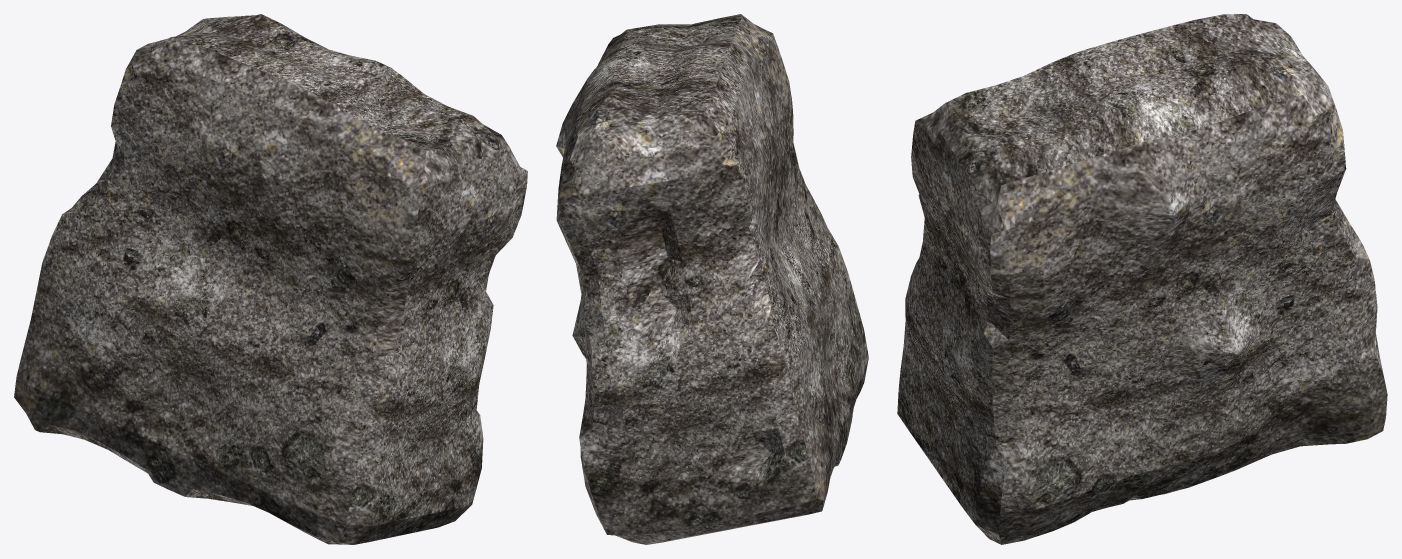
File: 03_安山岩.glb
The picture shows the model from 3 angles, left to right: view 1: azimuth 30°, elevation 25°; view 2: azimuth 150°, elevation 25°; view 3: azimuth 270°, elevation 25°; orthographic projection. The views are drawn at different scales.
Parts seen in each view (by area): view 1: 立方體.001; view 2: 立方體.001; view 3: 立方體.001.
Boxes of the visible parts, bbox=[...] form: 立方體.001: bbox=[14, 14, 527, 544]; 立方體.001: bbox=[556, 14, 868, 544]; 立方體.001: bbox=[897, 14, 1387, 544].
Size of the model in its own units: 2.94 by 3.33 by 3.28.
1 material, 1 textured.
